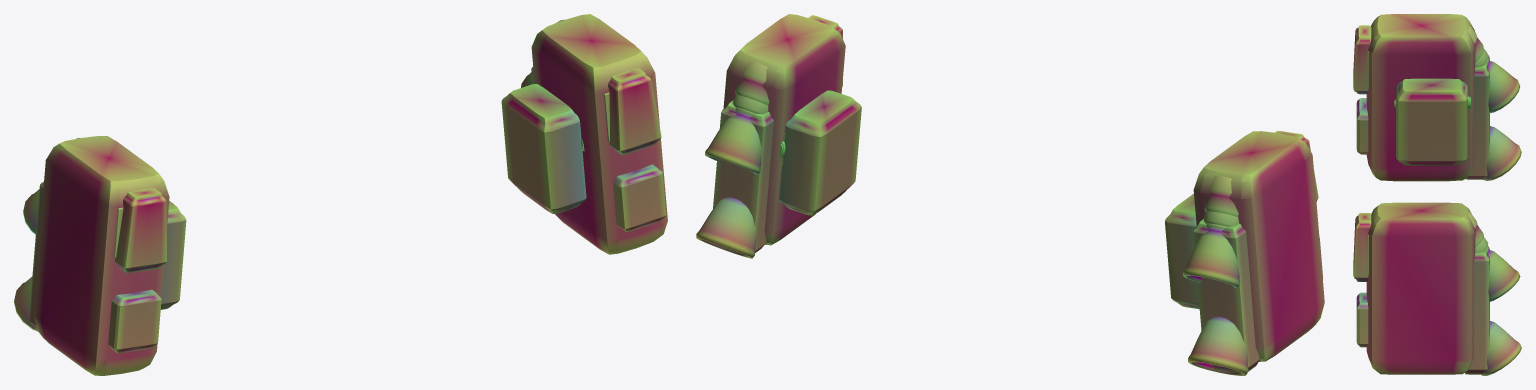
Rendered from llm_gen_leg_thrusters_119_10a475.glb.
The picture shows the model from 3 angles, left to right: view 1: azimuth 30°, elevation 25°; view 2: azimuth 150°, elevation 25°; view 3: azimuth 270°, elevation 25°; orthographic projection. The views are drawn at different scales.
Parts seen in each view (by area): view 1: outer_shin_armor_0_titanium_silver_l, outer_shin_armor_0_titanium_silver_r, adapter_calf_clamp_r, knee_guard_blade_2_gold_l, knee_guard_blade_2_gold_r, lower_shin_bumper_4_crimson_gloss_l, lower_shin_bumper_4_crimson_gloss_r, adapter_calf_clamp_l, rear_thruster_manifold_dark_5_adapter_dark_l, rear_surge_bell_bot_7_vernier_bell_vernier_l; view 2: outer_shin_armor_0_titanium_silver_l, outer_shin_armor_0_titanium_silver_r, adapter_calf_clamp_r, rear_thruster_manifold_dark_5_adapter_dark_l, rear_thruster_manifold_dark_5_adapter_dark_r, adapter_calf_clamp_l, rear_surge_bell_bot_7_vernier_bell_vernier_l, rear_surge_bell_bot_7_vernier_bell_vernier_r, rear_surge_bell_top_6_vernier_bell_vernier_r, rear_surge_bell_top_6_vernier_bell_vernier_l, rear_surge_bell_top_6_vernier_bell_gimbal_collar_dark_r, rear_surge_bell_top_6_vernier_bell_gimbal_collar_dark_l; view 3: outer_shin_armor_0_titanium_silver_r, outer_shin_armor_0_titanium_silver_l, adapter_calf_clamp_l, rear_thruster_manifold_dark_5_adapter_dark_r, rear_thruster_manifold_dark_5_adapter_dark_l, rear_surge_bell_bot_7_vernier_bell_vernier_l, rear_surge_bell_bot_7_vernier_bell_vernier_r, rear_surge_bell_top_6_vernier_bell_vernier_l, rear_surge_bell_top_6_vernier_bell_vernier_r, knee_guard_blade_2_gold_l, knee_guard_blade_2_gold_r, lower_shin_bumper_4_crimson_gloss_l (+3 smaller).
Boxes of the visible parts, <box> form: outer_shin_armor_0_titanium_silver_l: <box>33,136,169,375</box>; outer_shin_armor_0_titanium_silver_r: <box>531,14,667,254</box>; adapter_calf_clamp_r: <box>501,84,586,213</box>; knee_guard_blade_2_gold_l: <box>115,188,166,272</box>; knee_guard_blade_2_gold_r: <box>608,68,661,154</box>; lower_shin_bumper_4_crimson_gloss_l: <box>108,289,161,353</box>; lower_shin_bumper_4_crimson_gloss_r: <box>613,164,666,231</box>; adapter_calf_clamp_l: <box>160,201,186,309</box>; rear_thruster_manifold_dark_5_adapter_dark_l: <box>29,181,43,331</box>; rear_surge_bell_bot_7_vernier_bell_vernier_l: <box>14,276,36,330</box>; outer_shin_armor_0_titanium_silver_l: <box>1193,131,1324,361</box>; outer_shin_armor_0_titanium_silver_r: <box>723,14,845,245</box>; adapter_calf_clamp_r: <box>779,90,861,215</box>; rear_thruster_manifold_dark_5_adapter_dark_l: <box>1193,219,1260,372</box>; rear_thruster_manifold_dark_5_adapter_dark_r: <box>713,100,773,252</box>; adapter_calf_clamp_l: <box>1165,193,1199,309</box>; rear_surge_bell_bot_7_vernier_bell_vernier_l: <box>1188,316,1248,375</box>; rear_surge_bell_bot_7_vernier_bell_vernier_r: <box>696,197,756,258</box>; rear_surge_bell_top_6_vernier_bell_vernier_r: <box>705,106,761,174</box>; rear_surge_bell_top_6_vernier_bell_vernier_l: <box>1182,223,1239,288</box>; rear_surge_bell_top_6_vernier_bell_gimbal_collar_dark_r: <box>735,61,769,105</box>; rear_surge_bell_top_6_vernier_bell_gimbal_collar_dark_l: <box>1204,176,1238,216</box>; outer_shin_armor_0_titanium_silver_r: <box>1366,202,1475,374</box>; outer_shin_armor_0_titanium_silver_l: <box>1366,14,1475,181</box>; adapter_calf_clamp_l: <box>1396,78,1467,165</box>; rear_thruster_manifold_dark_5_adapter_dark_r: <box>1465,247,1489,374</box>; rear_thruster_manifold_dark_5_adapter_dark_l: <box>1465,54,1489,179</box>; rear_surge_bell_bot_7_vernier_bell_vernier_l: <box>1483,126,1521,180</box>; rear_surge_bell_bot_7_vernier_bell_vernier_r: <box>1481,321,1521,375</box>; rear_surge_bell_top_6_vernier_bell_vernier_l: <box>1484,57,1520,113</box>; rear_surge_bell_top_6_vernier_bell_vernier_r: <box>1485,246,1520,301</box>; knee_guard_blade_2_gold_l: <box>1353,25,1371,94</box>; knee_guard_blade_2_gold_r: <box>1353,213,1371,281</box>; lower_shin_bumper_4_crimson_gloss_l: <box>1356,98,1368,154</box>.
Size of the model in its own units: 80.15 by 26.84 by 25.87.
